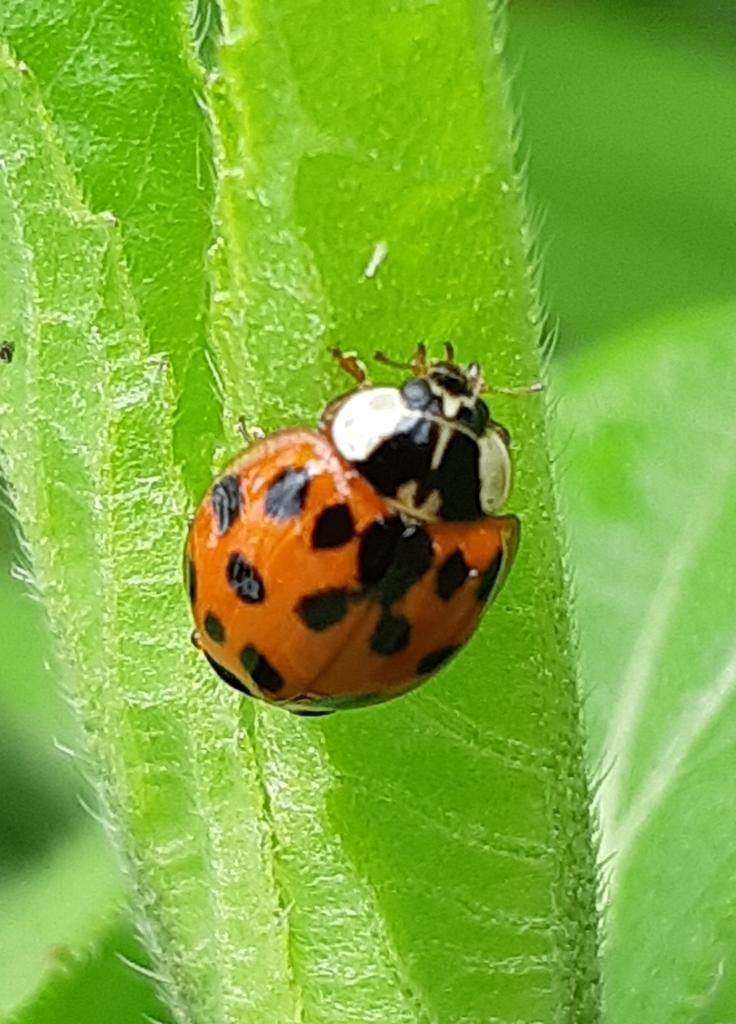ladybug: (181, 336, 554, 721)
